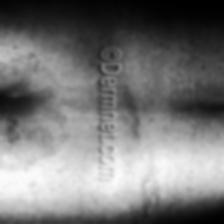Toxin: (0, 114, 64, 172)
